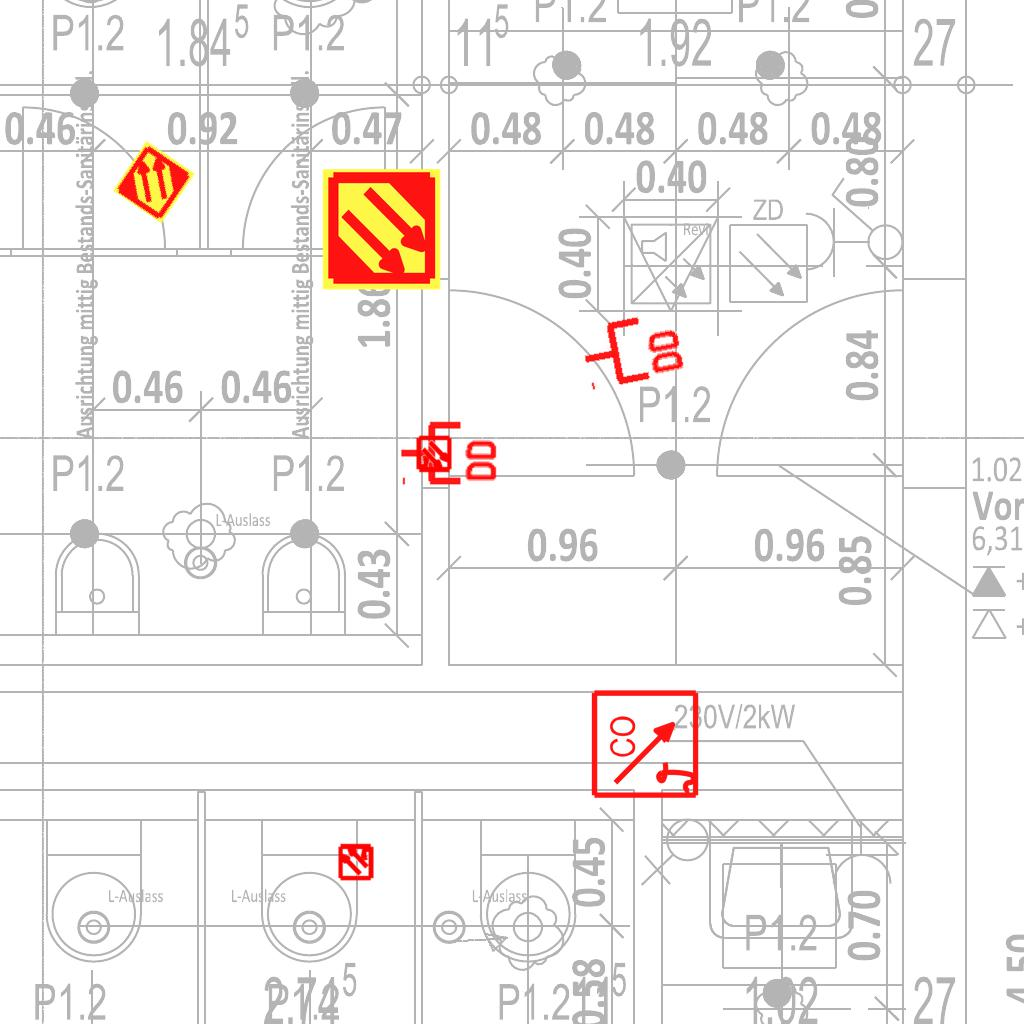ASR_Ansaugrauchmelder: (319, 167, 444, 292), (110, 138, 198, 226)
Datenanschluss_zweifach: (575, 304, 690, 393), (398, 417, 501, 486)
OT_Multisensormelder_(Kombination_RMO_WMD): (328, 833, 384, 889), (406, 427, 462, 483)
ROA_Rauchmelder_optisch_mit_Signalgeber_(Sockelsirene): (590, 687, 703, 800)
